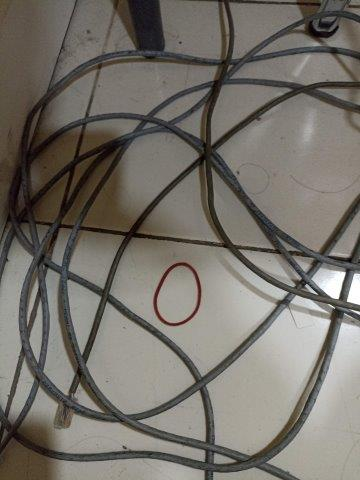karet: (153, 262, 202, 326)
